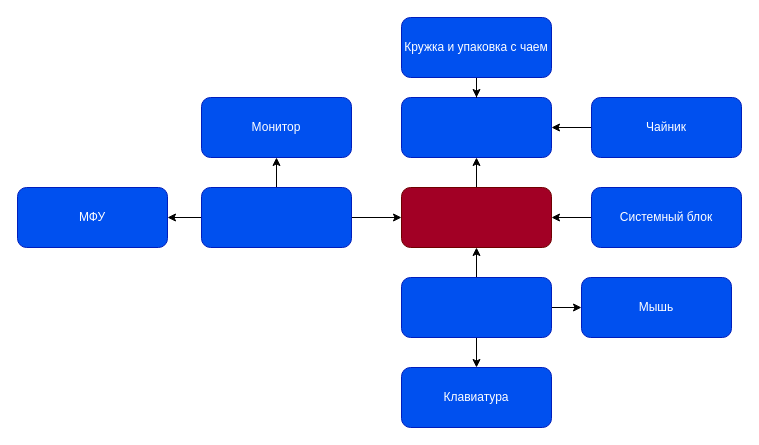
The diagram is 759 pixels wide and 445 high, and some of its shapes have lost their labels. Here are the shapes that lost their labels. From the top down, the centre of each, then its label:
At point 476,127: "Письменый стол".
At point 276,217: "Устройства вывода".
At point 476,217: "Мой компьютер".
At point 476,307: "Устройства ввода".
